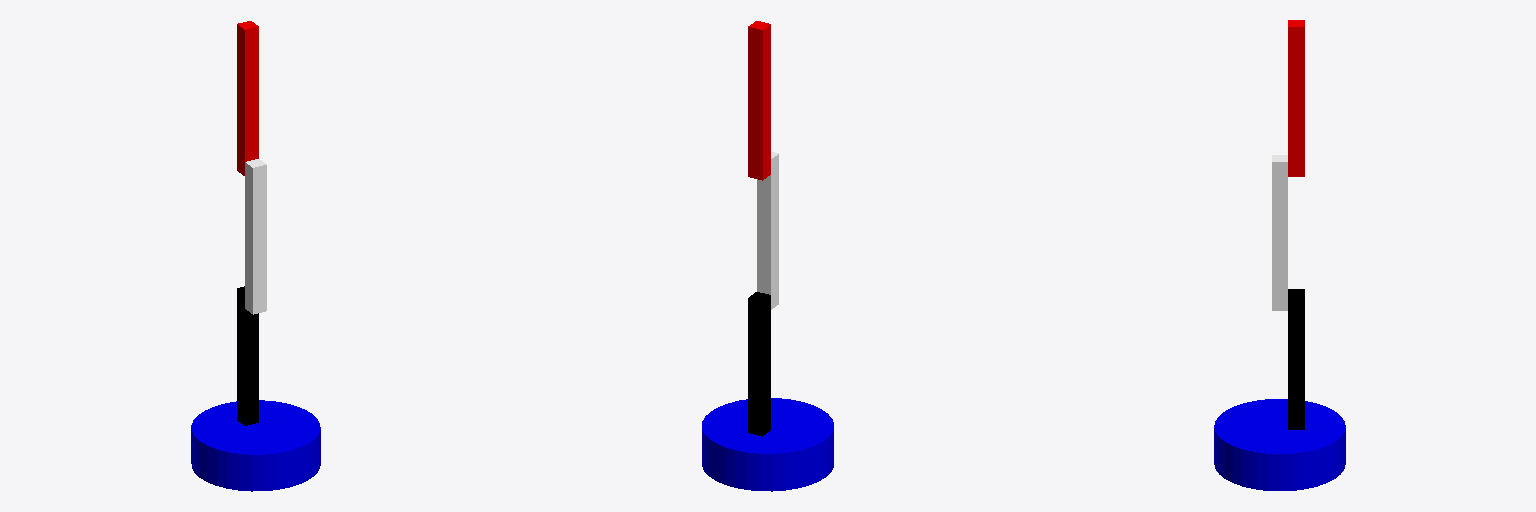
URDF robot description (RobotArm):
<?xml version="1.0"?>
<robot name="RobotArm">

	<material name="blue">
		<color rgba="0 0 1 1"/>
	</material>
	<material name="red">
		<color rgba="1 0 0 1"/>
	</material>
	<material name="green">
		<color rgba="0 1 0 1"/>
	</material>
	<material name="black">
		<color rgba="0 0 0 1"/>
	</material>
	<material name="white">
		<color rgba="1 1 1 1"/>
	</material>

	<link name="base_link">
		<visual>
			<geometry>
				<cylinder length="0.05" radius="0.08"/>
			</geometry>
			<origin xyz="0.0 0.0 0.025"/>
			<material name="blue"/>
		</visual>
		<collision>
			<geometry>
				<cylinder length="0.05" radius="0.08"/>
			</geometry>
			<origin xyz="0.0 0.0 0.025"/>
			<material name="blue"/>
		</collision>
	</link>

	<joint name="joint_1" type="revolute">
		<parent link="base_link"/>
		<child link="link_1"/>
		<origin xyz="0.0 0.020 0.05"/>
		<axis xyz="0 1 0"/>
		<limit effort="1000" lower="-3.14" upper="3.14" velocity="5"/>
	</joint>

	<link name="link_1">
		<visual>
			<geometry>
				<box size="0.02 0.02 0.20"/>
			</geometry>
			<origin xyz="0.0 0.0 0.08"/>
			<material name="black"/>
		</visual>
		<collision>
			<geometry>
				<box size="0.02 0.02 0.20"/>
			</geometry>
			<origin xyz="0.0 0.0 0.08"/>
			<material name="black"/>
		</collision>
	</link>

	<joint name="joint_2" type="revolute">
		<parent link="link_1"/>
		<child link="link_2"/>
		<origin xyz="0.0 -0.020 0.18"/>
		<axis xyz="0 1 0"/>
		<limit effort="1000" lower="-3.14" upper="3.14" velocity="5"/>
	</joint>

	<link name="link_2">
		<visual>
			<geometry>
				<box size="0.02 0.02 0.20"/>
			</geometry>
			<origin xyz="0.0 0.0 0.08"/>
			<material name="white"/>
		</visual>
		<collision>
			<geometry>
				<box size="0.02 0.02 0.20"/>
			</geometry>
			<origin xyz="0.0 0.0 0.08"/>
			<material name="white"/>
		</collision>
	</link>

	<joint name="joint_3" type="revolute">
		<parent link="link_2"/>
		<child link="link_3"/>
		<origin xyz="0.0 0.020 0.18"/>
		<axis xyz="0 1 0"/>
		<limit effort="1000" lower="-3.14" upper="3.14" velocity="5"/>
	</joint>

	<link name="link_3">
		<visual>
			<geometry>
				<box size="0.02 0.02 0.20"/>
			</geometry>
			<origin xyz="0.0 0.0 0.08"/>
			<material name="red"/>
		</visual>
		<collision>
			<geometry>
				<box size="0.02 0.02 0.20"/>
			</geometry>
			<origin xyz="0.0 0.0 0.08"/>
		</collision>
	</link>
</robot>

--- Facts derived from the render (not from the file) ---
The picture shows the robot from 3 angles, left to right: view 1: azimuth 30°, elevation 25°; view 2: azimuth 150°, elevation 25°; view 3: azimuth 270°, elevation 25°; orthographic projection.
Robot: RobotArm — 4 links, 3 joints (3 revolute); root link base_link; default pose: all joints at 0.
Visible links, largest first — view 1: base_link, link_2, link_3, link_1; view 2: base_link, link_3, link_1, link_2; view 3: base_link, link_3, link_2, link_1.
Boxes of the visible links, x1,y1,x2,y2 form: base_link: (191, 400, 320, 491); link_2: (245, 159, 266, 314); link_3: (237, 21, 258, 175); link_1: (237, 286, 258, 425); base_link: (702, 398, 833, 491); link_3: (748, 21, 770, 180); link_1: (748, 292, 770, 436); link_2: (757, 152, 778, 309); base_link: (1214, 399, 1345, 490); link_3: (1288, 20, 1304, 176); link_2: (1272, 155, 1287, 310); link_1: (1288, 289, 1304, 429).
Bounding box of the posed robot: 0.16 × 0.16 × 0.59 m (x, y, z).
Geometry: primitives only (box / cylinder / sphere), no mesh files.
